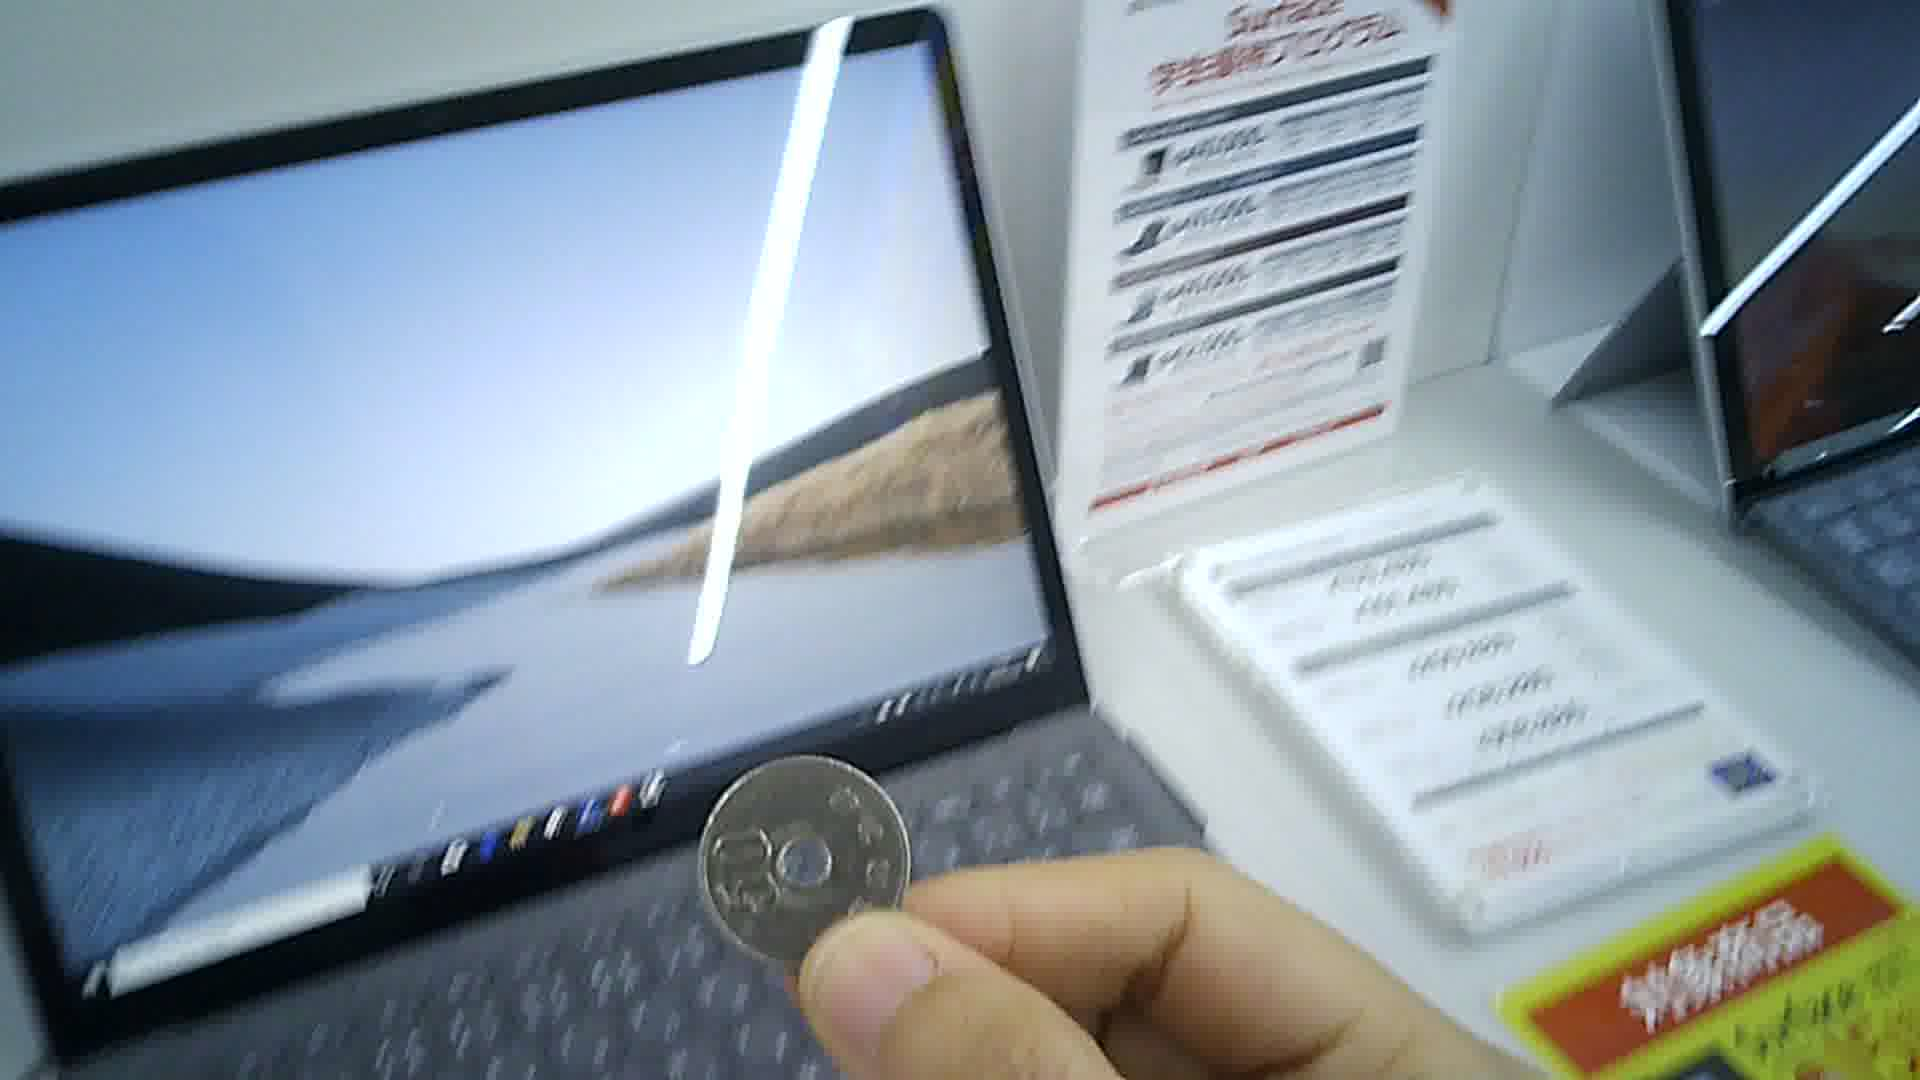50 Yen: (699, 761, 915, 968)
